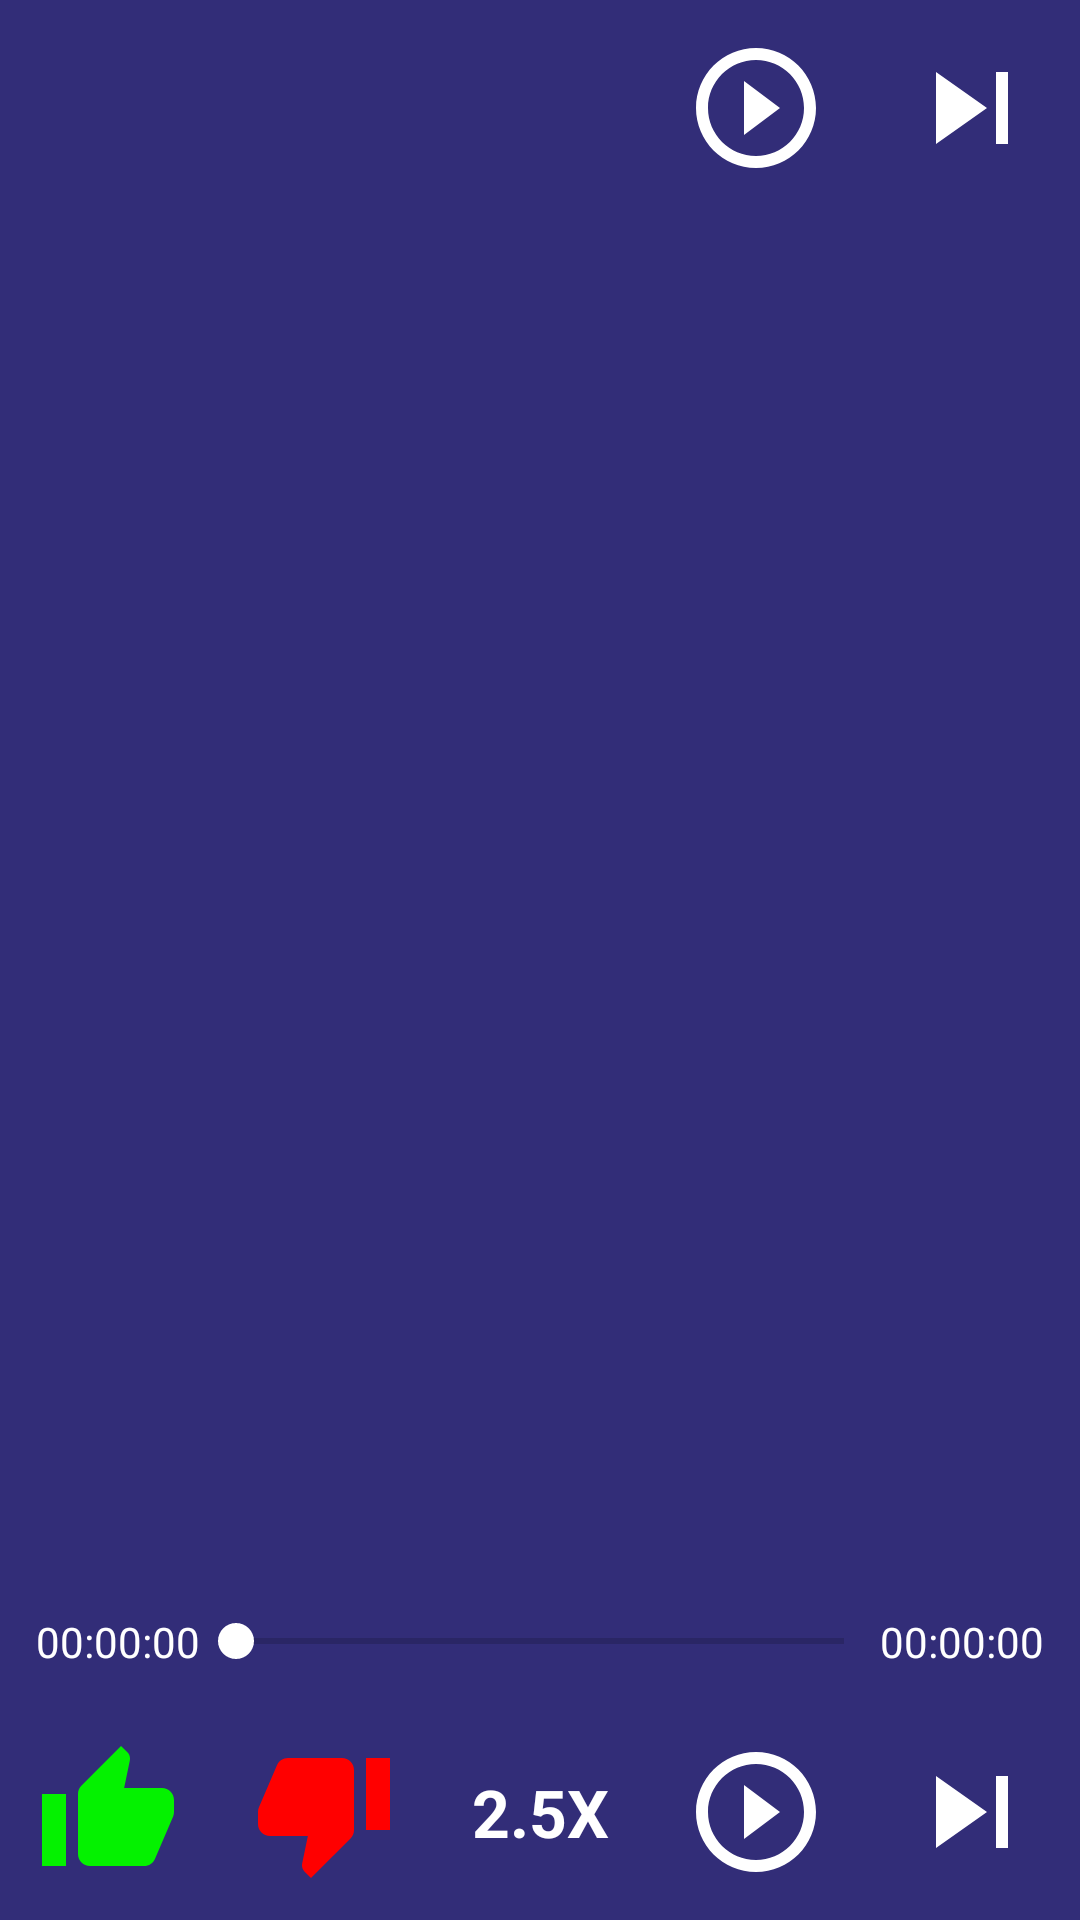

Icon bounding boxes for this 1080×1920 phone screenshot, format (x1, y1, x2, y2):
player dislike: (258, 1758, 390, 1878)
player like: (42, 1746, 174, 1866)
player play: (696, 48, 816, 168), (696, 1752, 816, 1872)
player skip: (936, 72, 1008, 144), (936, 1776, 1008, 1848)
